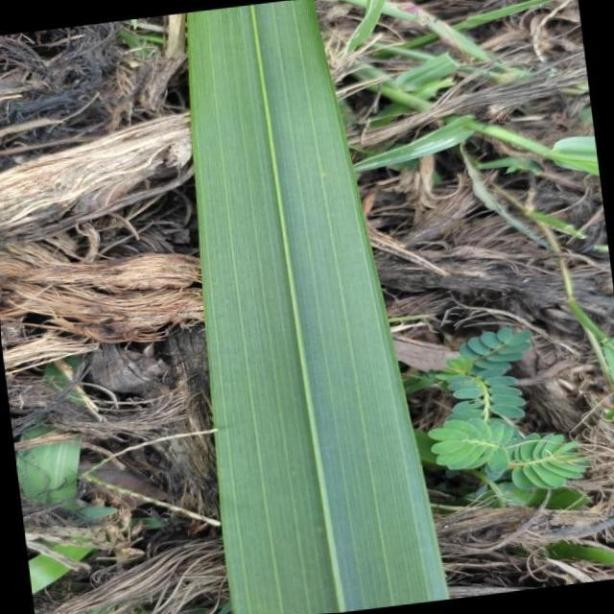Healthy: (188, 0, 449, 605)
